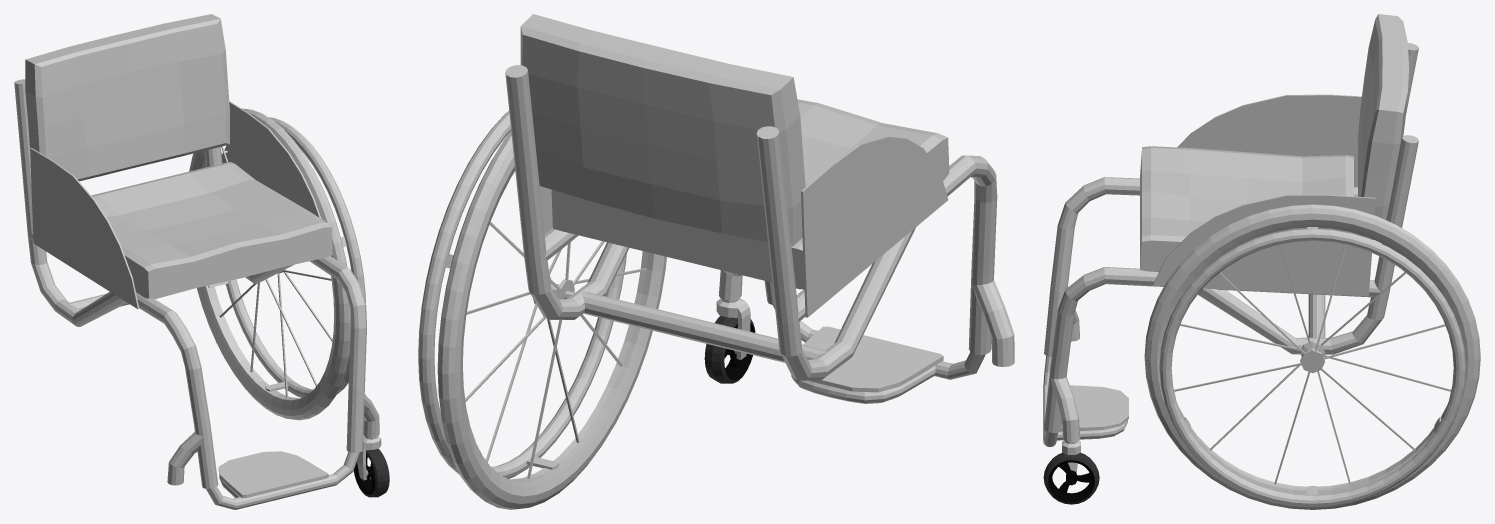
Rendered from wheelchair.fbx.
3 renders of one model, left to right at view 1: azimuth 30°, elevation 25°; view 2: azimuth 150°, elevation 25°; view 3: azimuth 270°, elevation 25°, orthographic. The views are drawn at different scales.
Visible parts, largest first — view 1: backrest, seat, frame, cloth_guards, wheel, handrim, foot_plate, spokes, caster, caster_fork; view 2: backrest, frame, wheel, cloth_guards, seat, handrim, foot_plate, spokes, caster, caster_fork; view 3: cloth_guards, wheel, frame, seat, handrim, backrest, spokes, foot_plate, caster.
Boxes of the visible parts, x1,y1,x2,y2 form: backrest: [25, 14, 229, 181]; seat: [91, 162, 332, 298]; frame: [14, 79, 379, 509]; cloth_guards: [30, 101, 330, 309]; wheel: [189, 108, 350, 420]; handrim: [222, 117, 365, 397]; foot_plate: [218, 451, 328, 498]; spokes: [219, 146, 332, 397]; caster: [353, 448, 389, 497]; caster_fork: [357, 436, 381, 480]; backrest: [520, 14, 805, 246]; frame: [505, 65, 1014, 403]; wheel: [437, 130, 666, 509]; cloth_guards: [539, 136, 948, 317]; seat: [551, 99, 949, 289]; handrim: [418, 111, 626, 478]; foot_plate: [803, 326, 943, 392]; spokes: [465, 222, 647, 478]; caster: [704, 315, 755, 383]; caster_fork: [716, 298, 750, 359]; cloth_guards: [1152, 94, 1375, 296]; wheel: [1144, 204, 1480, 509]; frame: [1043, 43, 1418, 447]; seat: [1140, 146, 1353, 271]; handrim: [1159, 228, 1465, 507]; backrest: [1357, 14, 1408, 219]; spokes: [1174, 231, 1451, 484]; foot_plate: [1044, 384, 1128, 431]; caster: [1043, 452, 1099, 504].
Bounding box in the file's own units: 53.23 × 78.24 × 79.34.
